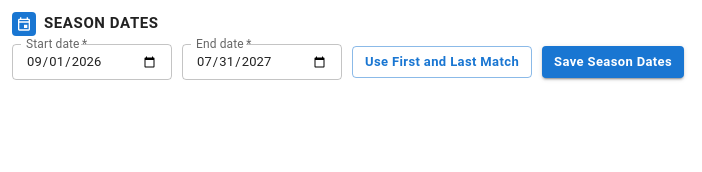
Test: LeagueSeasonDatesBlock (docs/specs/111) › Use First and Last Match › stays available when dates are already saved
Check: the date field labelled "Start date *" holds "2026-09-01", box 12,46 -> 172,78
Click the button "Use First and Last Match". click: x=442, y=62
box: 352,46 -> 532,78
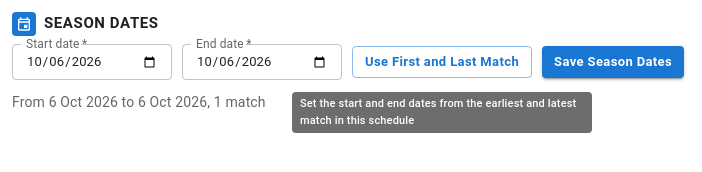
Check: the date field labelled "Start date *" holds "2026-10-06", box 12,46 -> 172,78
Check: the date field labelled "End date *" holds "2026-10-06", box 182,46 -> 342,78
